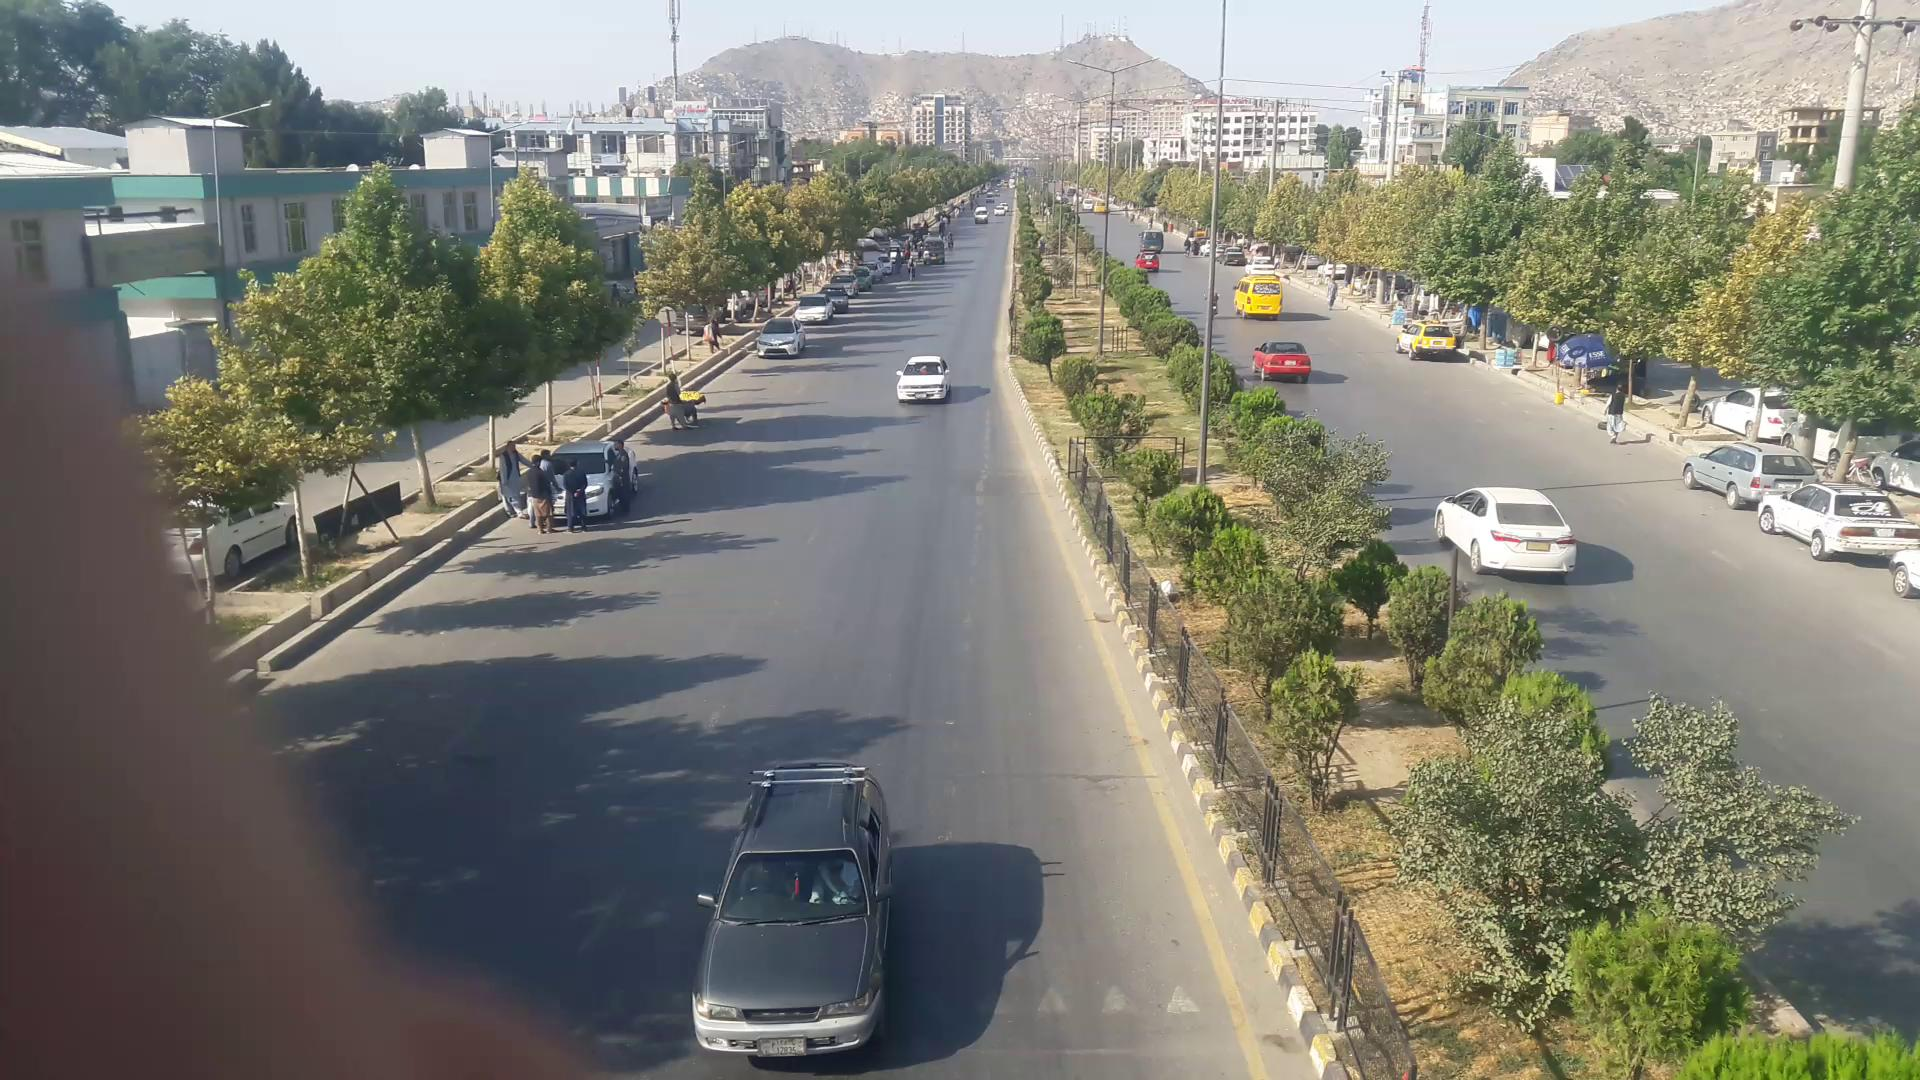bus: (1231, 275, 1284, 317)
car: (707, 760, 910, 1057), (1761, 480, 1919, 561), (1441, 486, 1580, 574), (1684, 444, 1827, 508), (896, 357, 952, 405), (1250, 339, 1312, 380), (1397, 323, 1460, 358), (760, 323, 809, 357)
